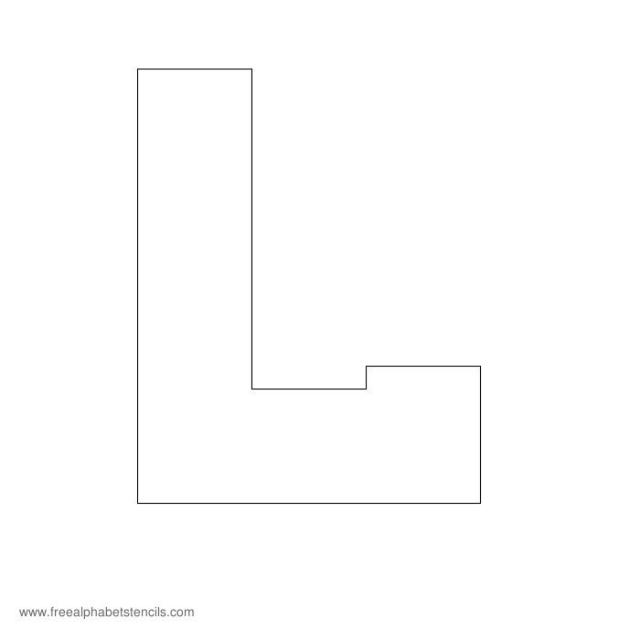L: (88, 34, 519, 563)
